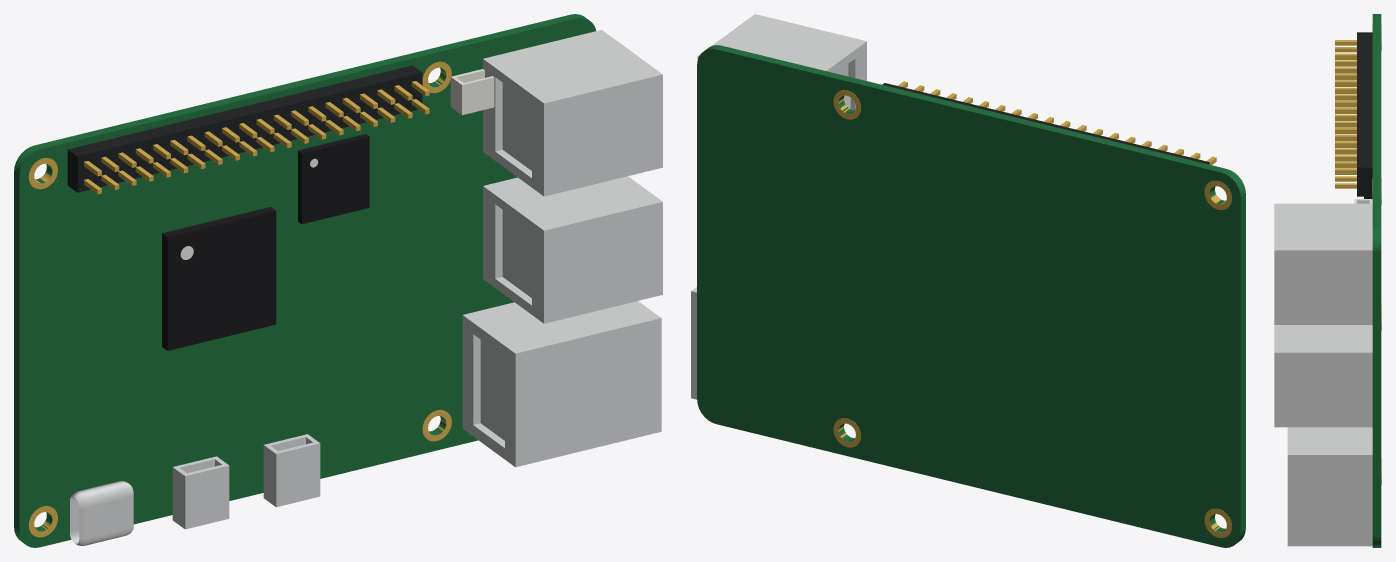
The model's file is rpi5-4gb.glb.
3 renders of one model, left to right at view 1: azimuth 30°, elevation 25°; view 2: azimuth 150°, elevation 25°; view 3: azimuth 270°, elevation 25°, orthographic. The views are drawn at different scales.
Parts seen in each view (by area): view 1: board, ethernet, usb_a_stack_2, usb_a_stack_1, soc, gpio, gpio_pins, rp1, micro_hdmi_1, micro_hdmi_0, power_usb_c, fan_connector; view 2: board, usb_a_stack_2, gpio, gpio_pins, ethernet; view 3: usb_a_stack_2, ethernet, usb_a_stack_1, board, gpio_pins, gpio.
Boxes of the visible parts, bbox=[...] form: board: bbox=[14, 14, 596, 547]; ethernet: bbox=[462, 301, 661, 467]; usb_a_stack_2: bbox=[483, 30, 662, 196]; usb_a_stack_1: bbox=[483, 176, 662, 323]; soc: bbox=[162, 207, 276, 350]; gpio: bbox=[67, 65, 422, 192]; gpio_pins: bbox=[84, 81, 429, 194]; rp1: bbox=[298, 134, 369, 224]; micro_hdmi_1: bbox=[263, 434, 320, 507]; micro_hdmi_0: bbox=[172, 456, 229, 529]; power_usb_c: bbox=[70, 481, 133, 545]; fan_connector: bbox=[450, 69, 494, 115]; board: bbox=[697, 45, 1245, 547]; usb_a_stack_2: bbox=[697, 14, 866, 109]; gpio: bbox=[882, 83, 1209, 164]; gpio_pins: bbox=[898, 81, 1216, 165]; ethernet: bbox=[691, 287, 696, 399]; usb_a_stack_2: bbox=[1274, 203, 1372, 324]; ethernet: bbox=[1287, 427, 1372, 546]; usb_a_stack_1: bbox=[1274, 325, 1372, 427]; board: bbox=[1372, 14, 1381, 547]; gpio_pins: bbox=[1335, 40, 1356, 188]; gpio: bbox=[1357, 32, 1372, 196].
Size of the model in its own units: 86.75 by 56.75 by 17.03.
